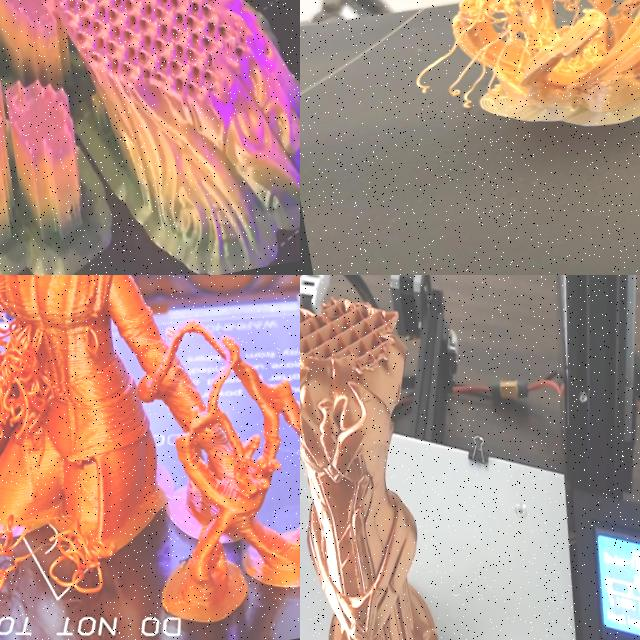spaghetti: (395, 0, 640, 129), (0, 292, 72, 516), (43, 512, 120, 616), (0, 489, 35, 623)
